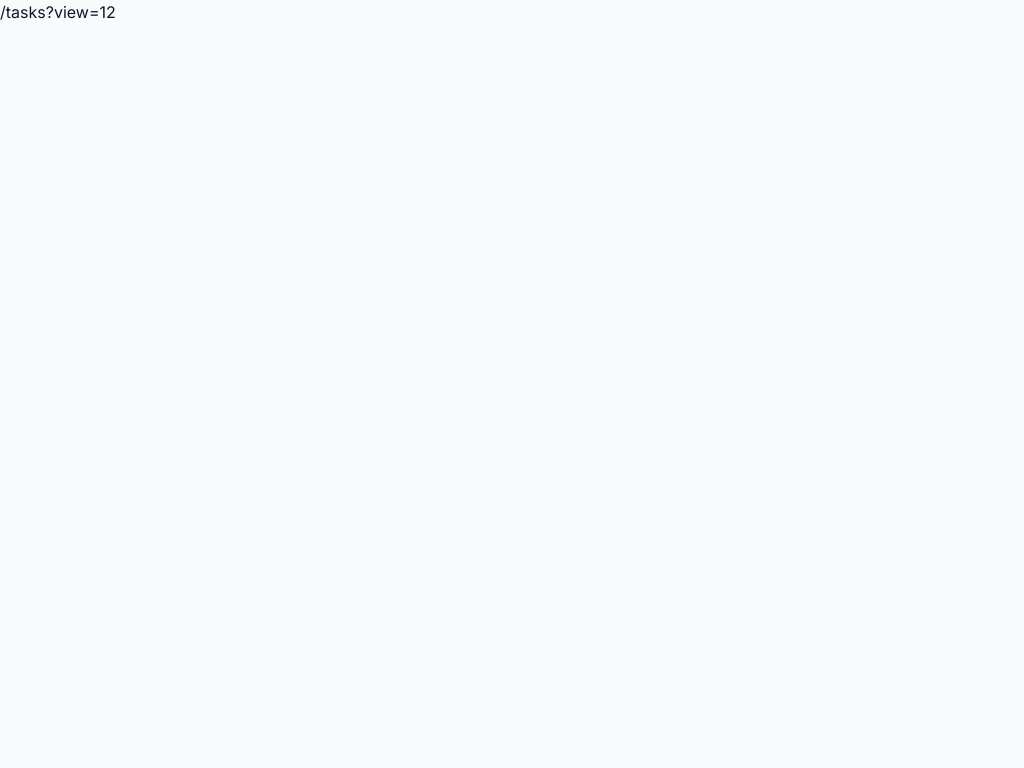
Test: CommandMenu › opens an authorized task result by keyboard separately from commands
Type keys "{Control>}k{/Control}"
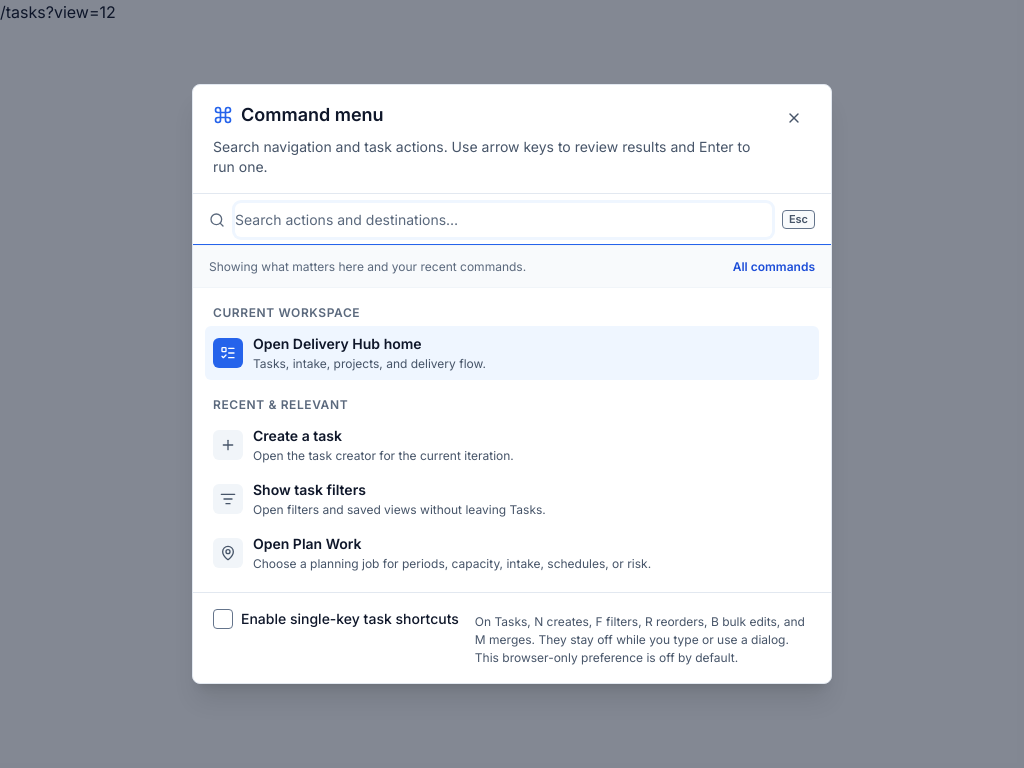
In the dropdown named "Search commands": (503, 220) [235, 202, 772, 236], type "#42"
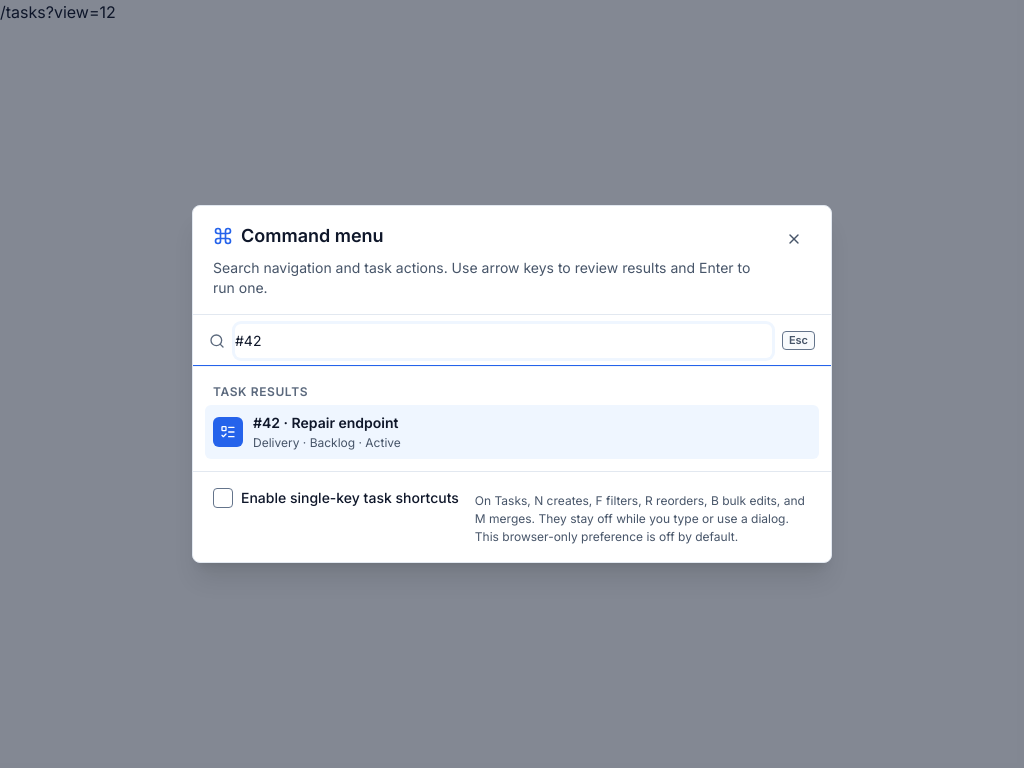
Check: the option "#42 · Repair endpoint Delivery · Backlog · Active" is shown, box [205, 405, 819, 459]
Check: the element "Task results" is shown, box [205, 379, 819, 459]
Press Enter
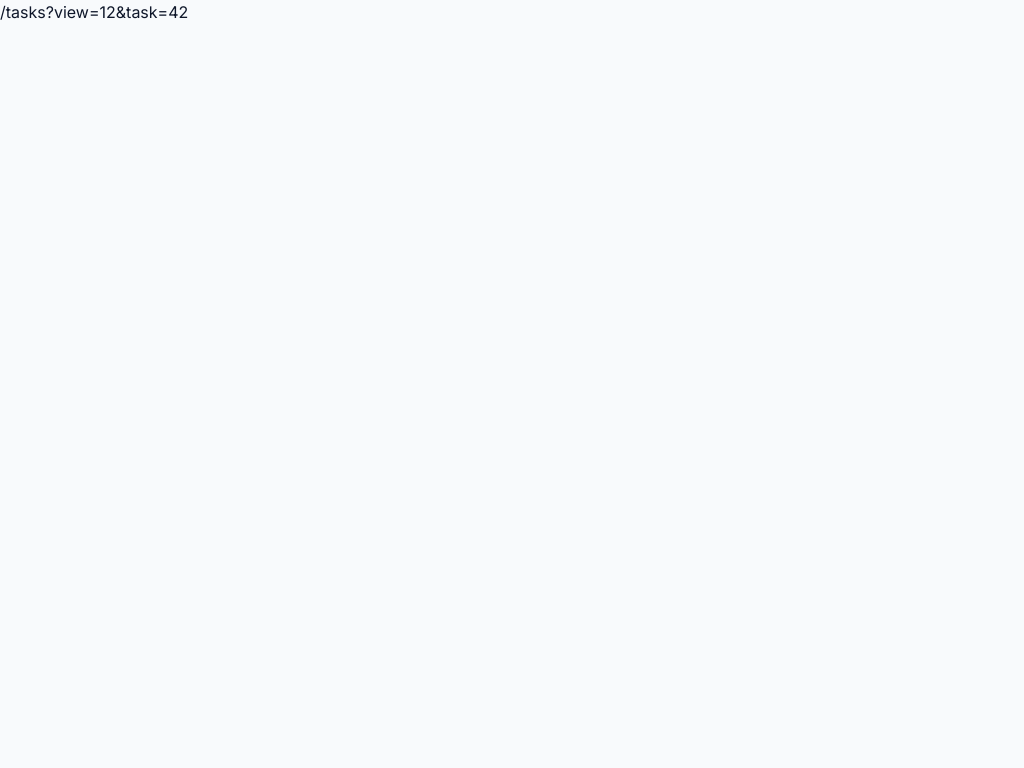
Check: the text with test id "command-location" reads "/tasks?view=12&task=42", box [0, 2, 188, 22]
